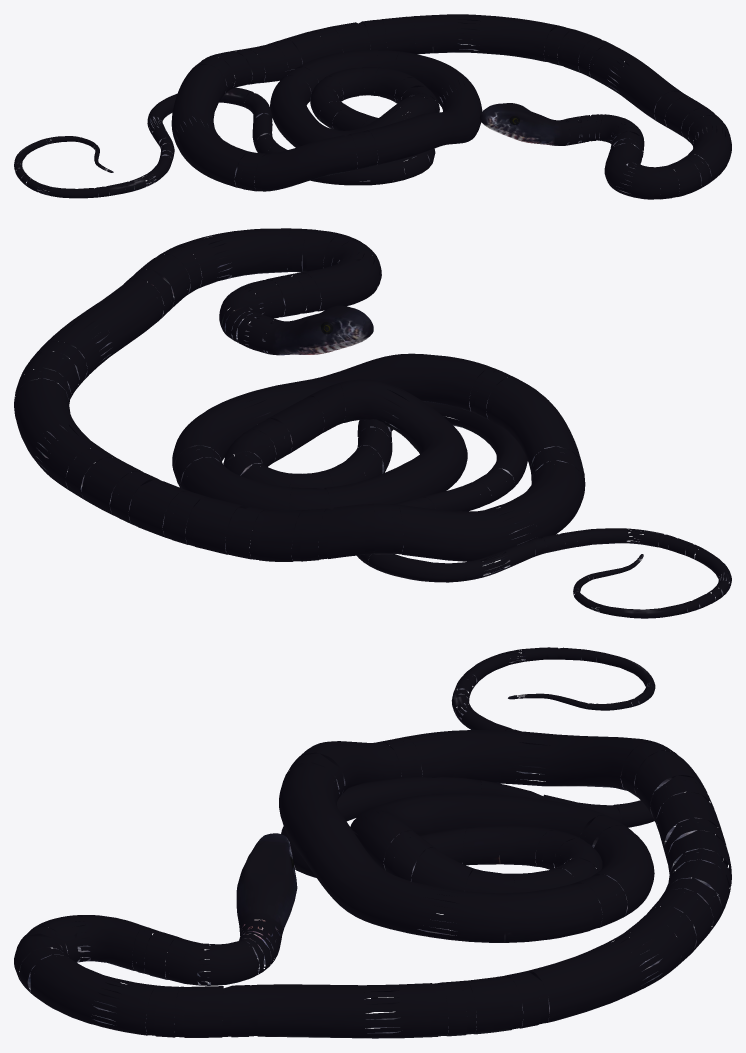
File: wildlife-snake.glb
The picture shows the model from 3 angles, top to bottom: view 1: azimuth 30°, elevation 25°; view 2: azimuth 150°, elevation 25°; view 3: azimuth 270°, elevation 25°; orthographic projection. The views are drawn at different scales.
Visible parts, largest first — view 1: body_sculptPose_0; view 2: body_sculptPose_0; view 3: body_sculptPose_0.
Part boxes in pixels (<box>): body_sculptPose_0: <box>14,14,731,199</box>; body_sculptPose_0: <box>14,228,731,618</box>; body_sculptPose_0: <box>14,647,731,1038</box>.
Size of the model in its own units: 1.79 by 0.1863 by 1.36.
4 materials, 1 textured.
